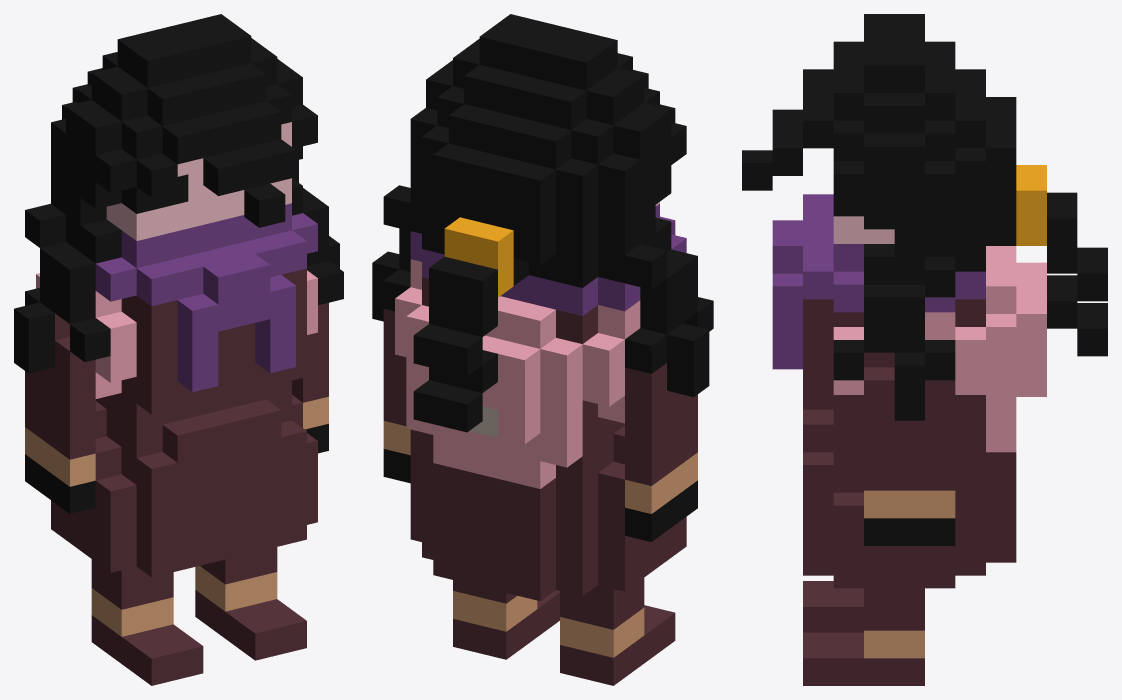
The model's file is player_snowwomen.obj.
The picture shows the model from 3 angles, left to right: view 1: azimuth 30°, elevation 25°; view 2: azimuth 150°, elevation 25°; view 3: azimuth 270°, elevation 25°; orthographic projection. The views are drawn at different scales.
Bounding box in the file's own units: 1.2 × 2.2 × 1.2.
1 material, 1 textured.
